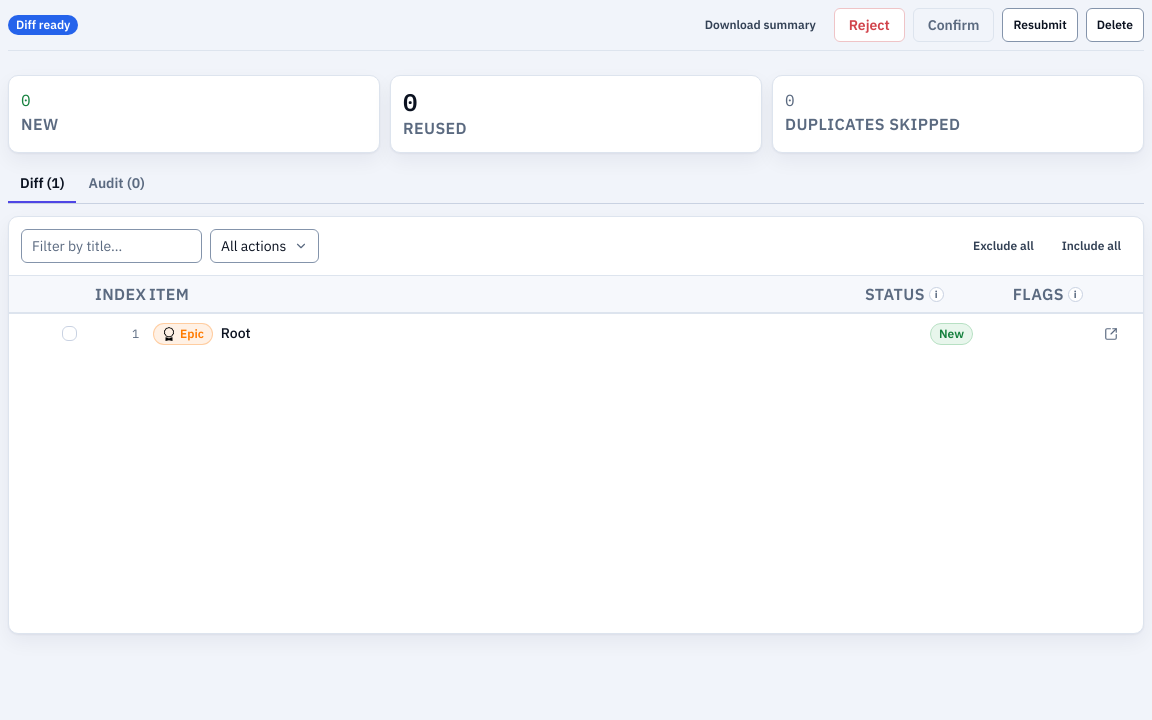
Scenario: JobDetail › renders the diff tree for a diff_ready job, and opens the details dialog on row click
Click the text "Root" at {"x": 236, "y": 333}, box [221,324,251,342]
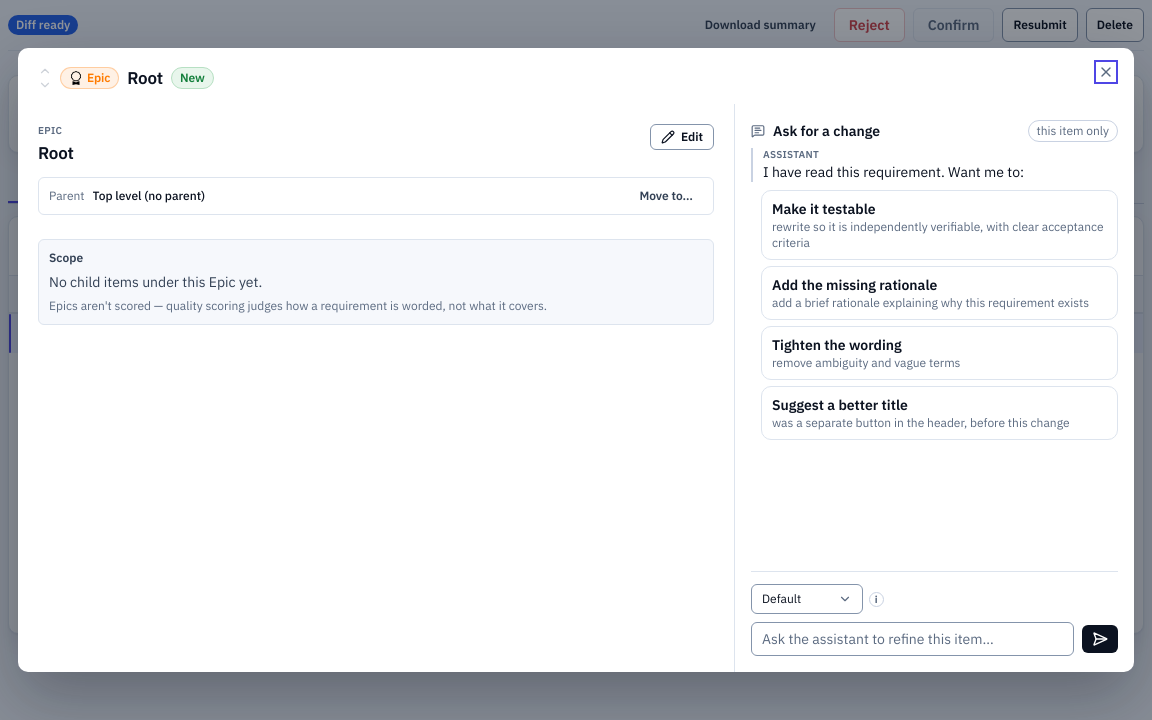
Now the dialog is shown
